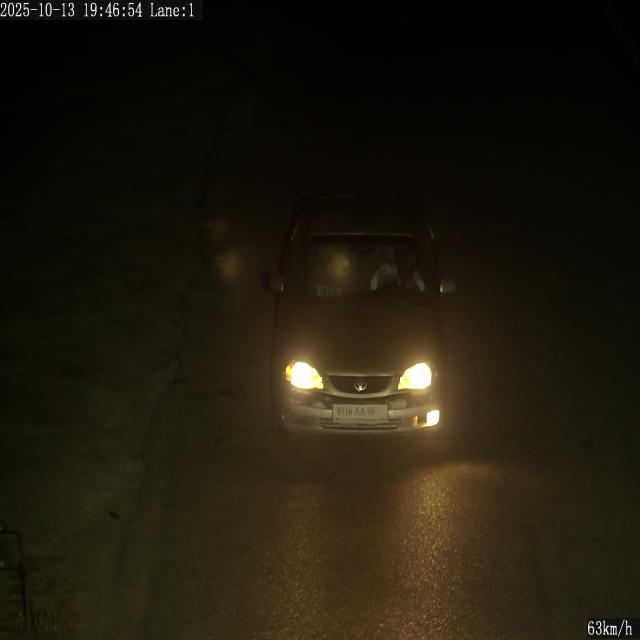BUS: (333, 404, 388, 422)
